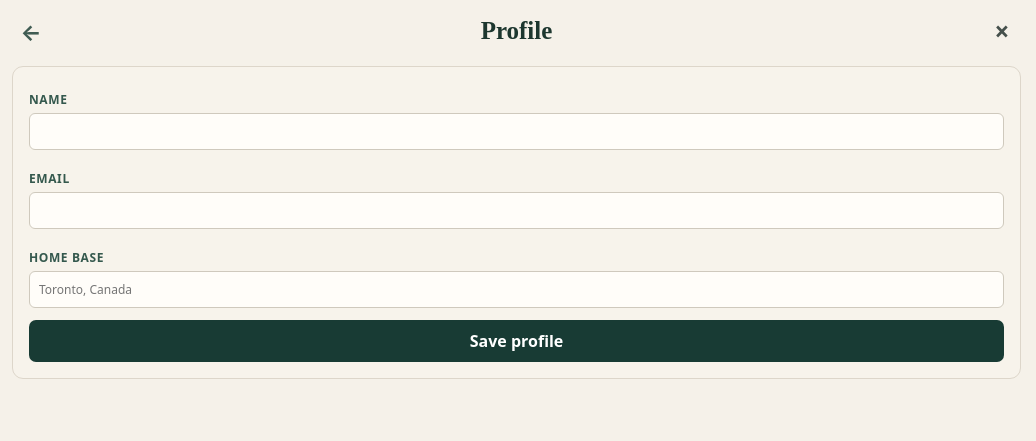
it: ProfilePanel › saves entered profile details and presents persistence errors
Type "Taylor" into the field labelled "Name".
click(516, 132); type("Taylor")  # box 29,113 -> 1004,150
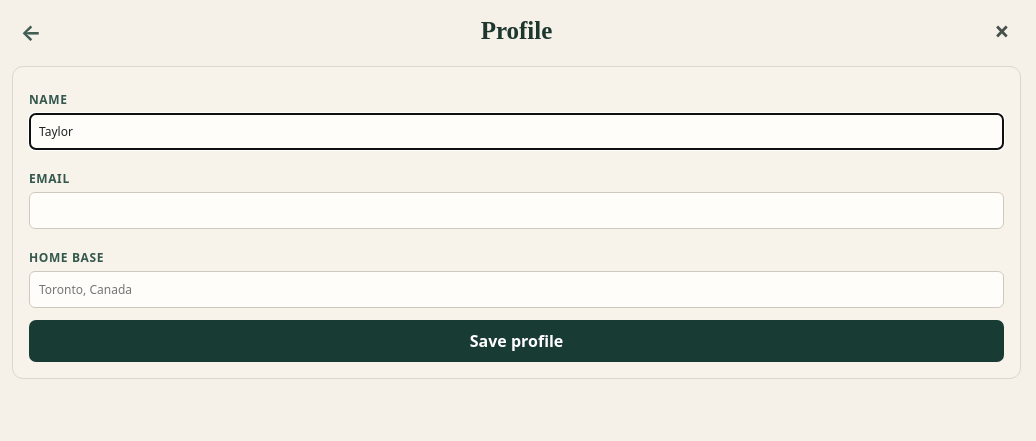
Type "taylor@example.com" into the field labelled "Email".
click(516, 210); type("taylor@example.com")  # box 29,192 -> 1004,229
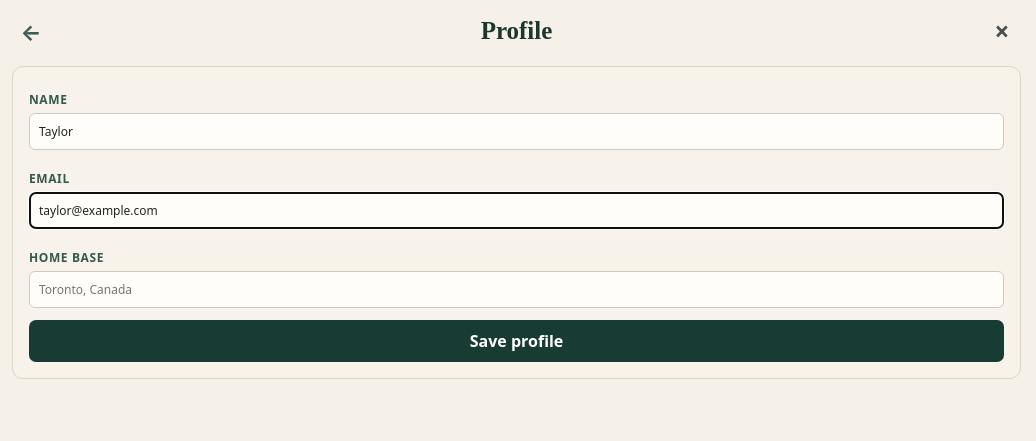
Type "Montréal, Canada" into the field labelled "Home base".
click(516, 290); type("Montréal, Canada")  # box 29,271 -> 1004,308
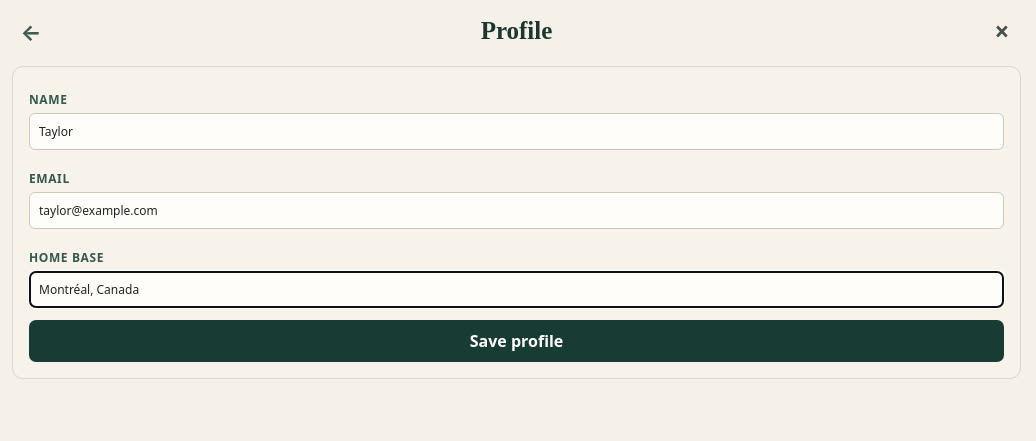
Click the button "Save profile".
click(516, 341)  # box 29,320 -> 1004,362
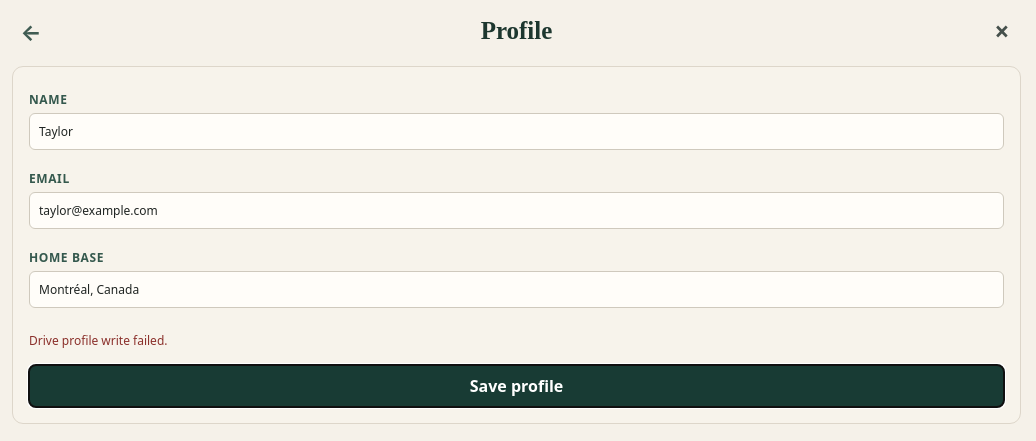
Expected: the message reads "Drive profile write failed.", 29,332 -> 168,349
